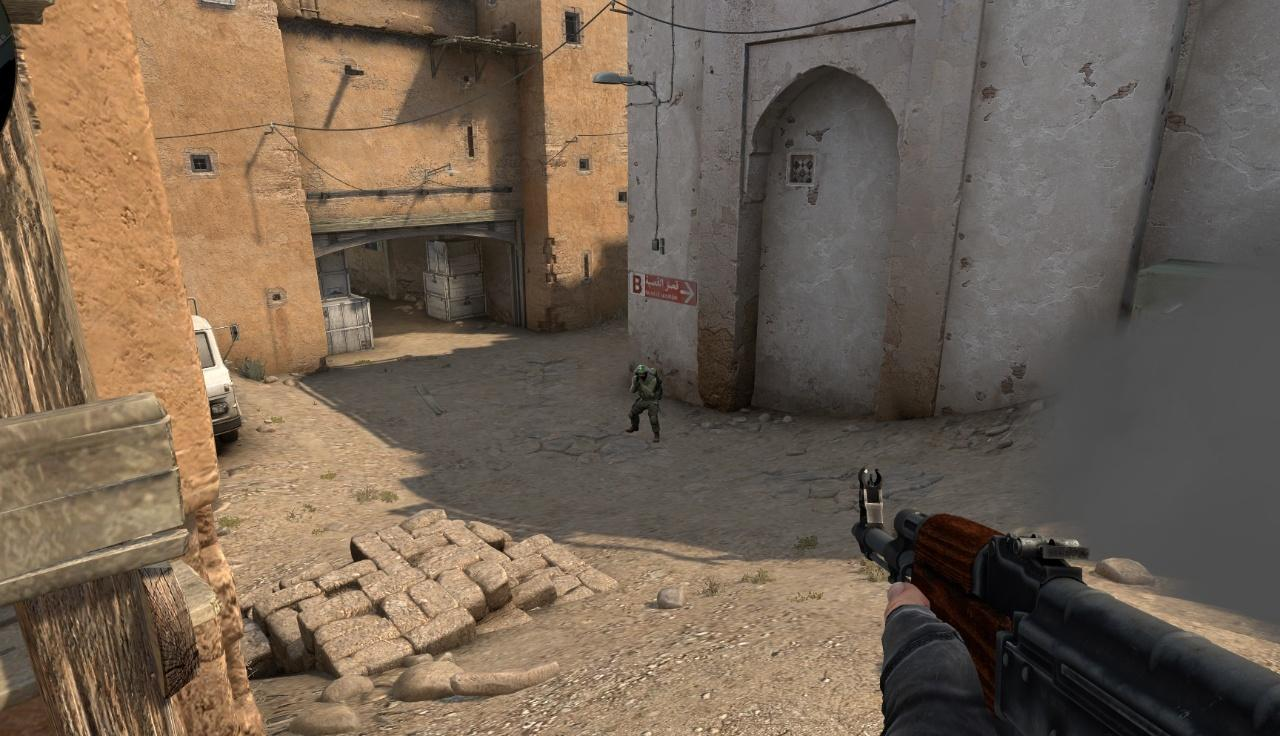ct: (626, 364, 662, 442)
cthead: (637, 365, 648, 380)
rifle: (852, 467, 1280, 736)
